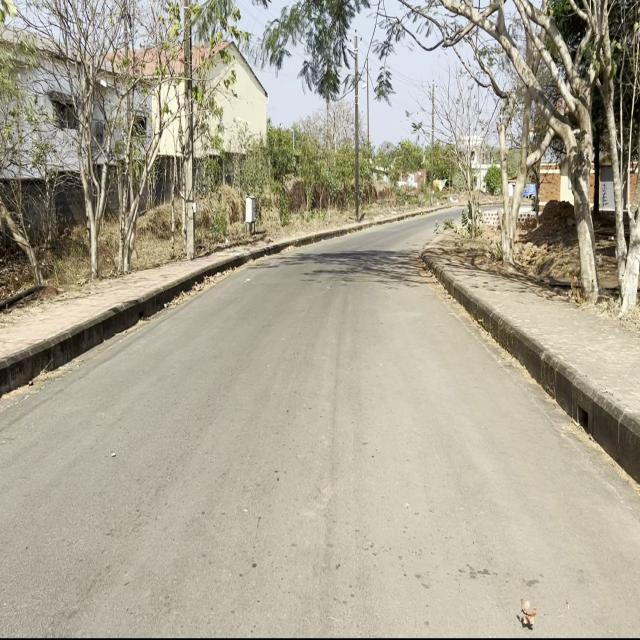Road: (2, 230, 638, 634)
